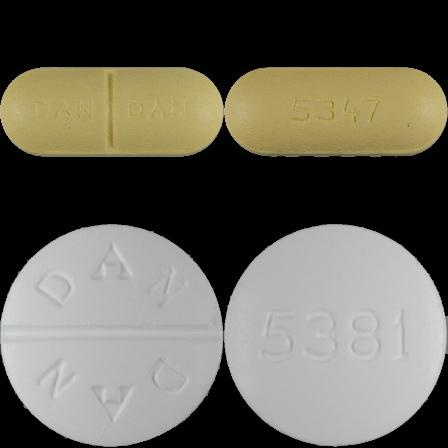0591-5347: (0, 0, 224, 224)
